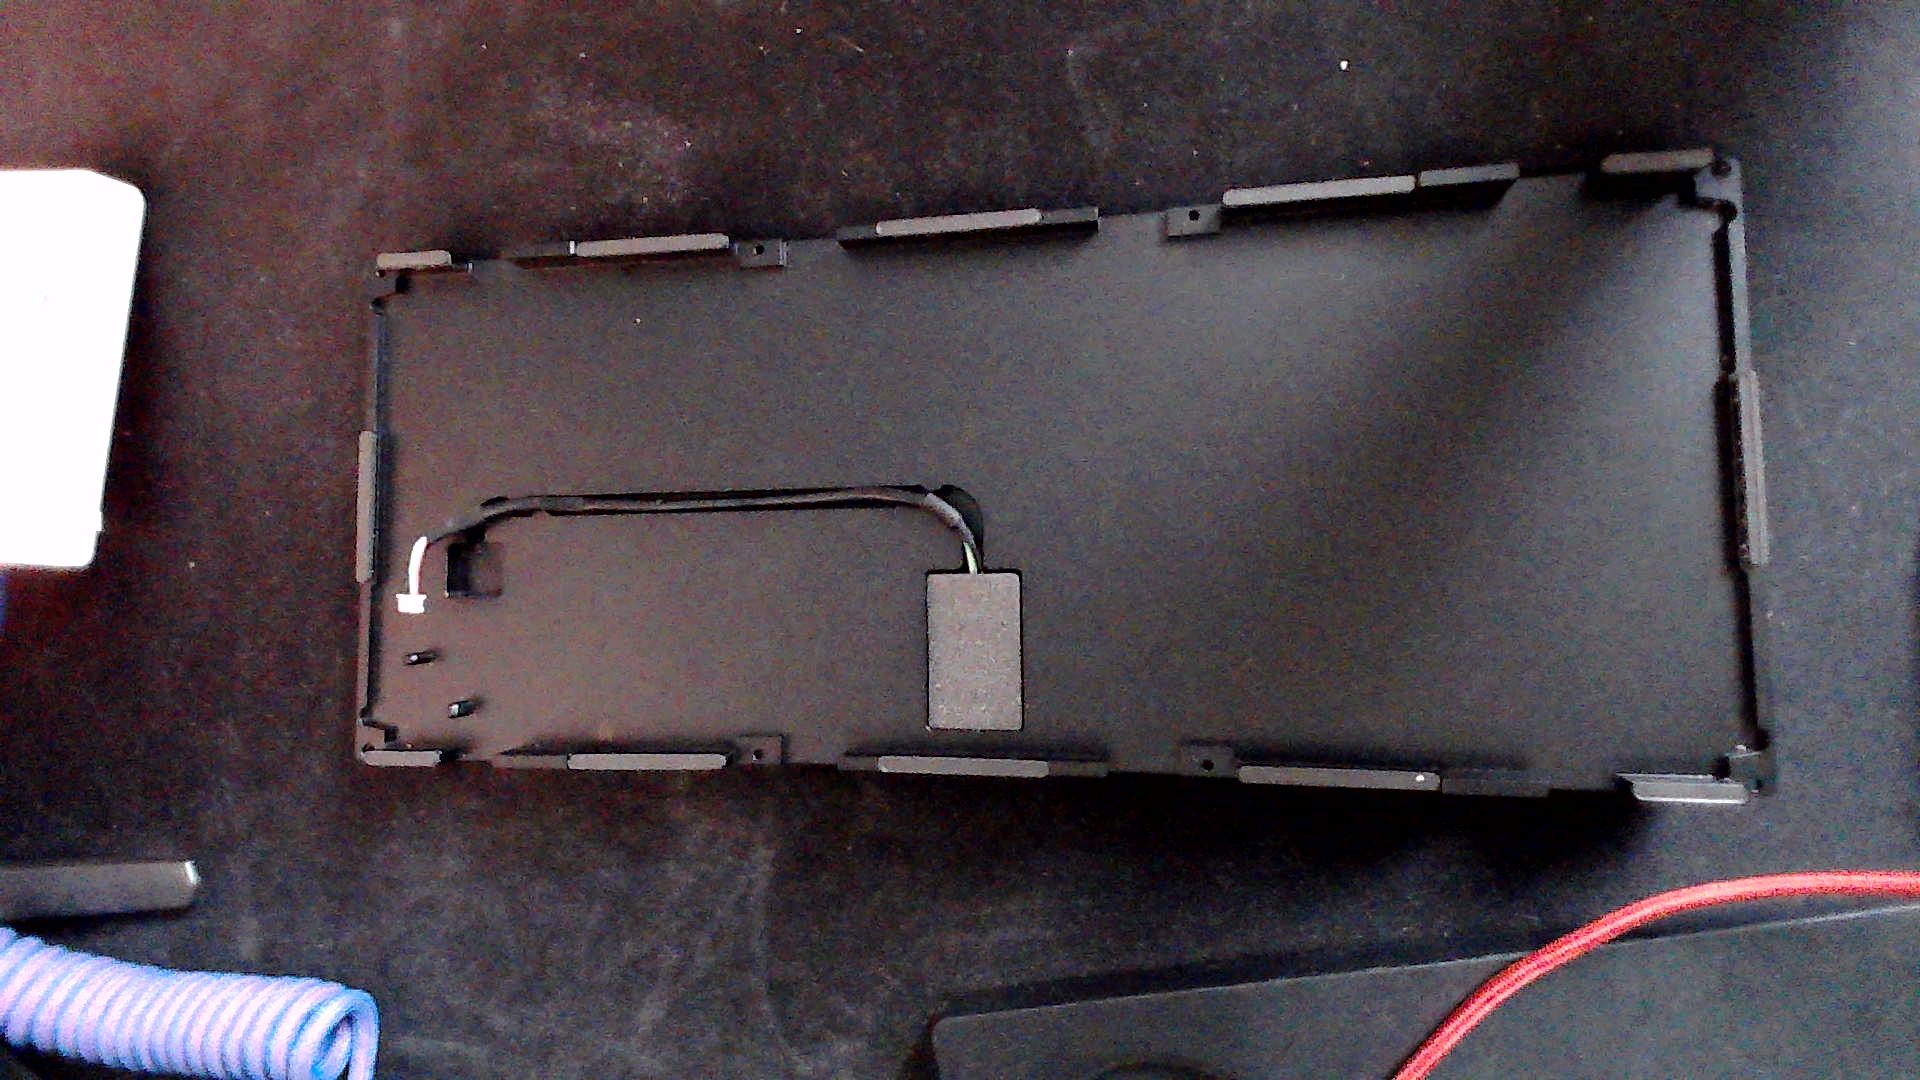case: (280, 120, 1808, 836)
